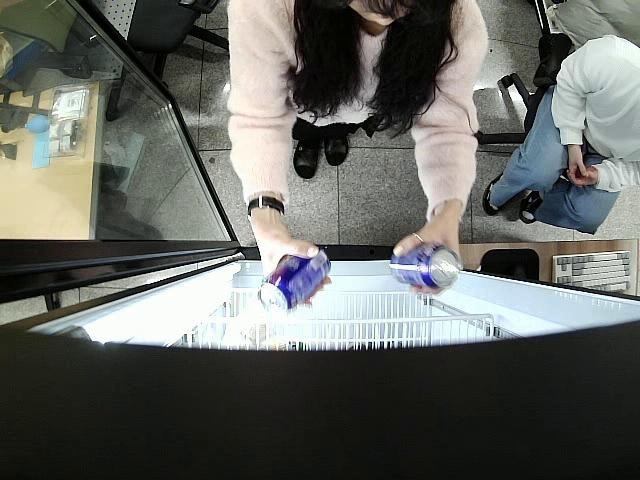14_welchsGrape: (258, 242, 328, 312), (387, 242, 459, 290)
